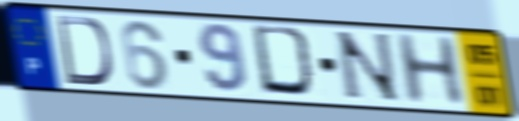6: (118, 18, 171, 92)
9: (195, 21, 251, 98)
D: (248, 23, 322, 102), (54, 13, 116, 88)
H: (391, 32, 469, 107)
N: (332, 29, 405, 105)
